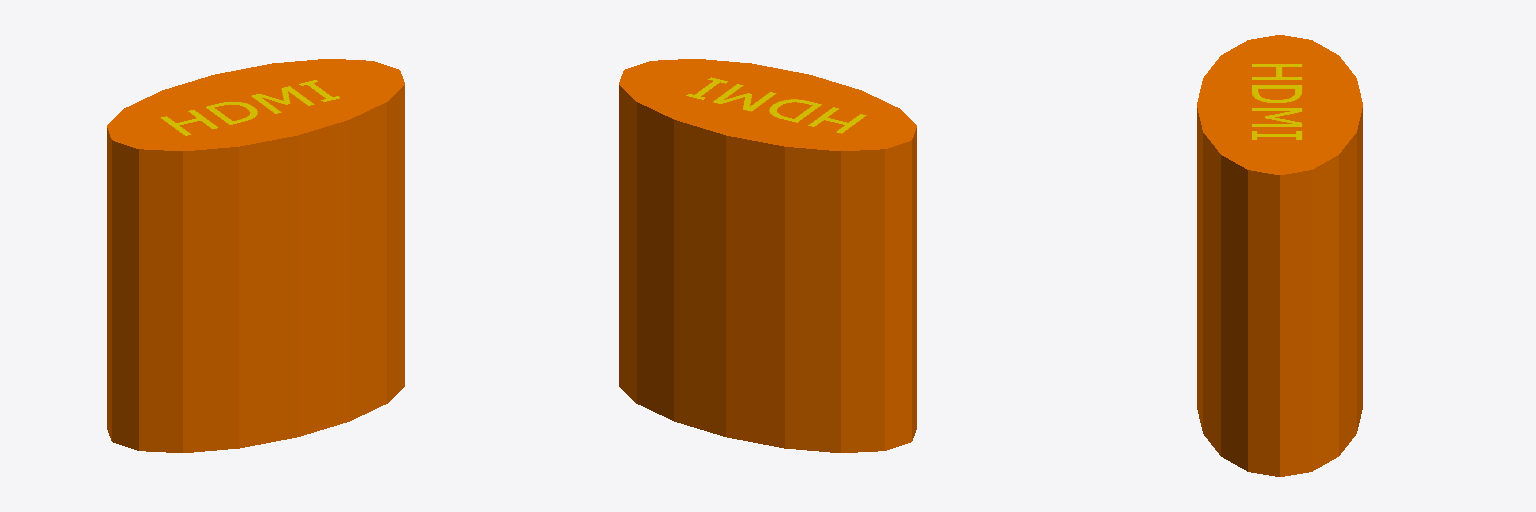
The picture shows the model from 3 angles: view 1: azimuth 30°, elevation 25°; view 2: azimuth 150°, elevation 25°; view 3: azimuth 270°, elevation 25°; orthographic projection.
Visible parts, largest first — view 1: Cylinder31_copy32; view 2: Cylinder31_copy32; view 3: Cylinder31_copy32.
Boxes of the visible parts, x1=… form: Cylinder31_copy32: x1=107, y1=59, x2=404, y2=452; Cylinder31_copy32: x1=619, y1=59, x2=916, y2=452; Cylinder31_copy32: x1=1197, y1=35, x2=1362, y2=476.
Size of the model in its own units: 2 by 2 by 1.
Materials: 1 (1 with a texture image).